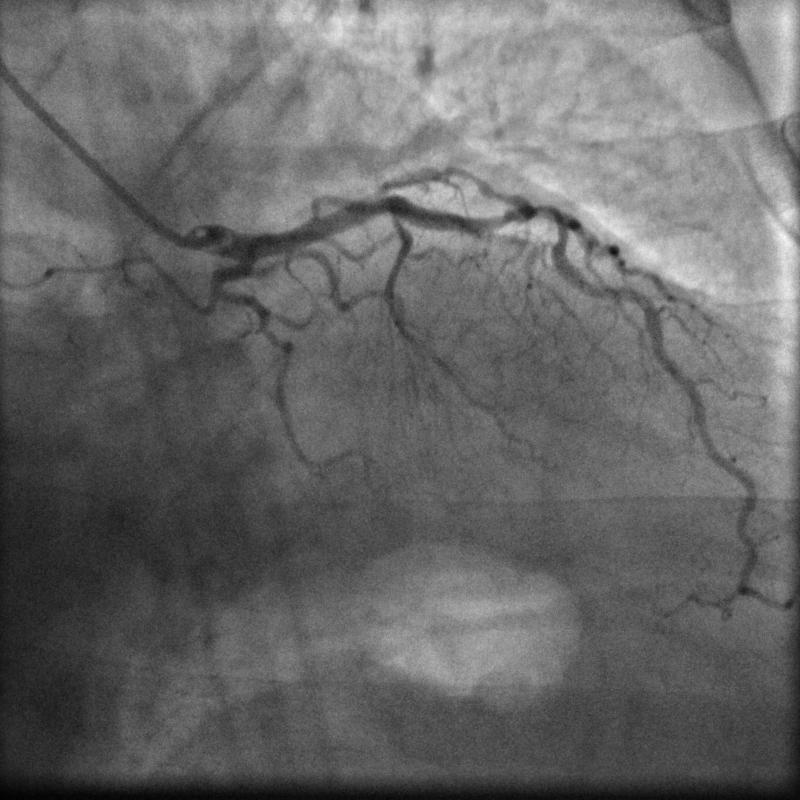Stenosis: (490, 200, 573, 243)
